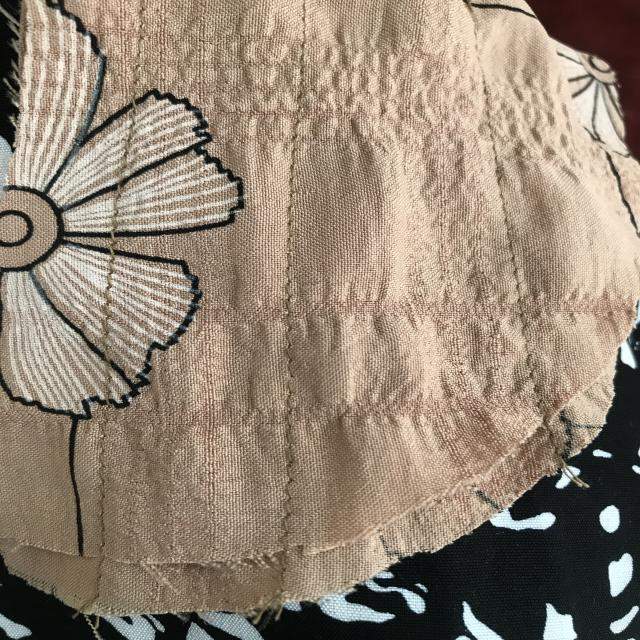good: (272, 189, 315, 302), (94, 262, 128, 333)
